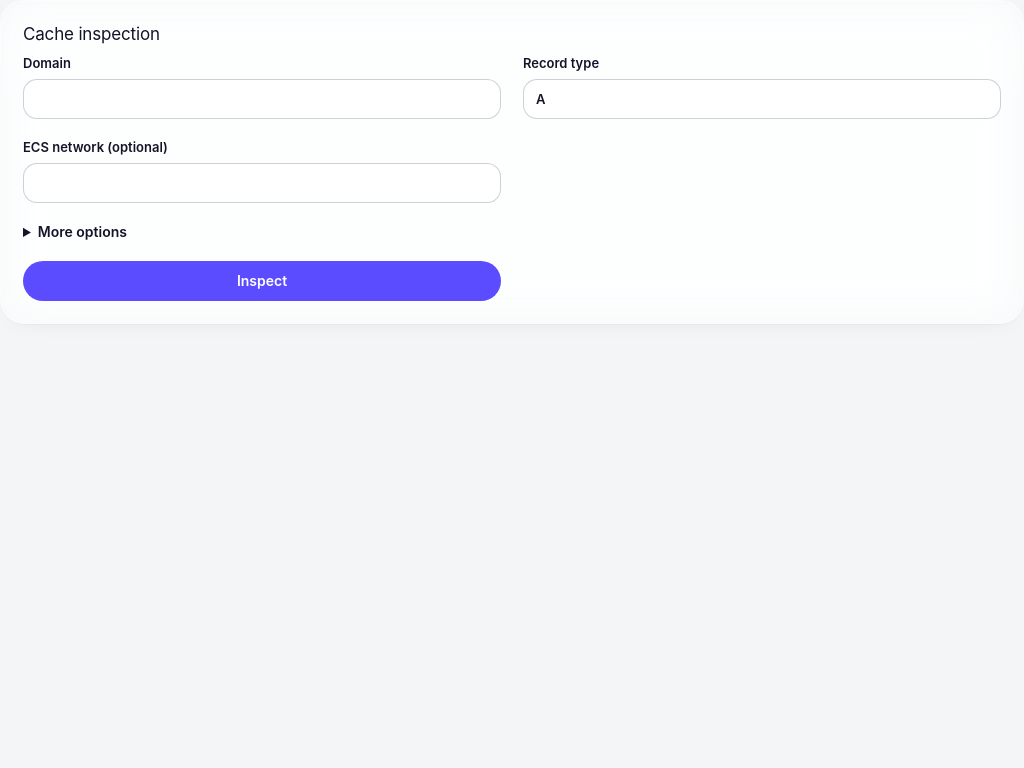
Test: cache inspection › lists entries in plain language and clears one with its own scope
Type "example.test" into the field labelled "Domain".
click(262, 99); type("example.test")  # box [23,79,501,119]
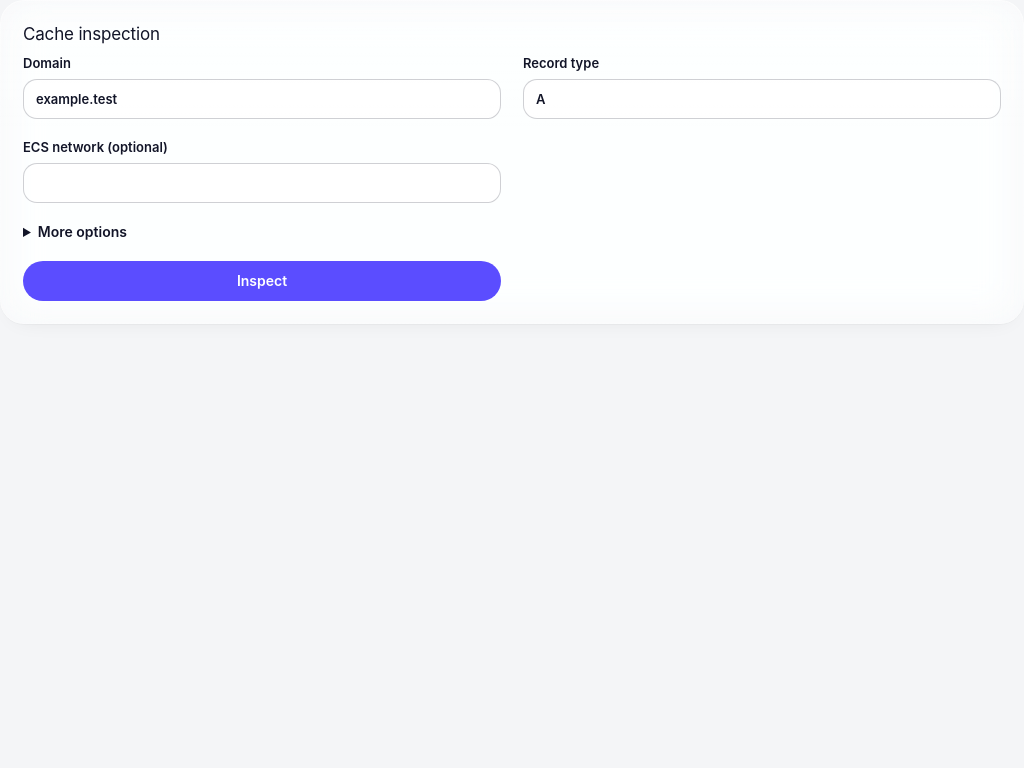
Click the button "Inspect".
click(262, 281)  # box [23,261,501,301]
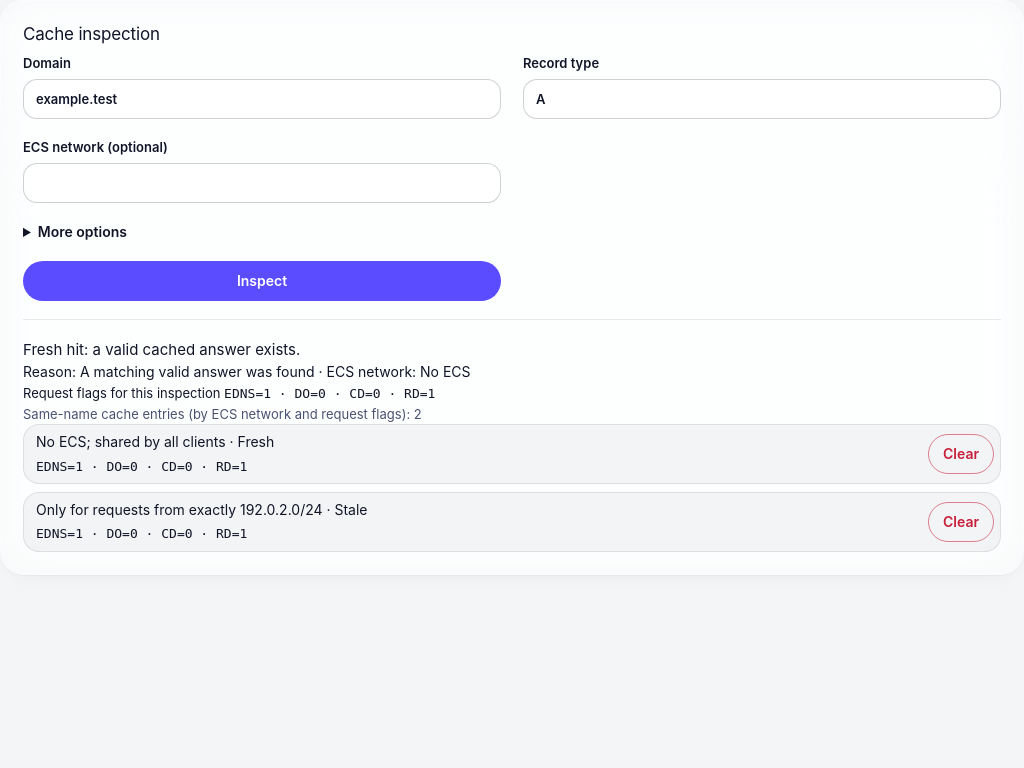
Check: the text "No ECS; shared by all clients · Fresh" is shown, box [36,431,274,453]
Click the button "Clear" in the row of "Stale".
click(961, 522)  # box [928,502,994,542]
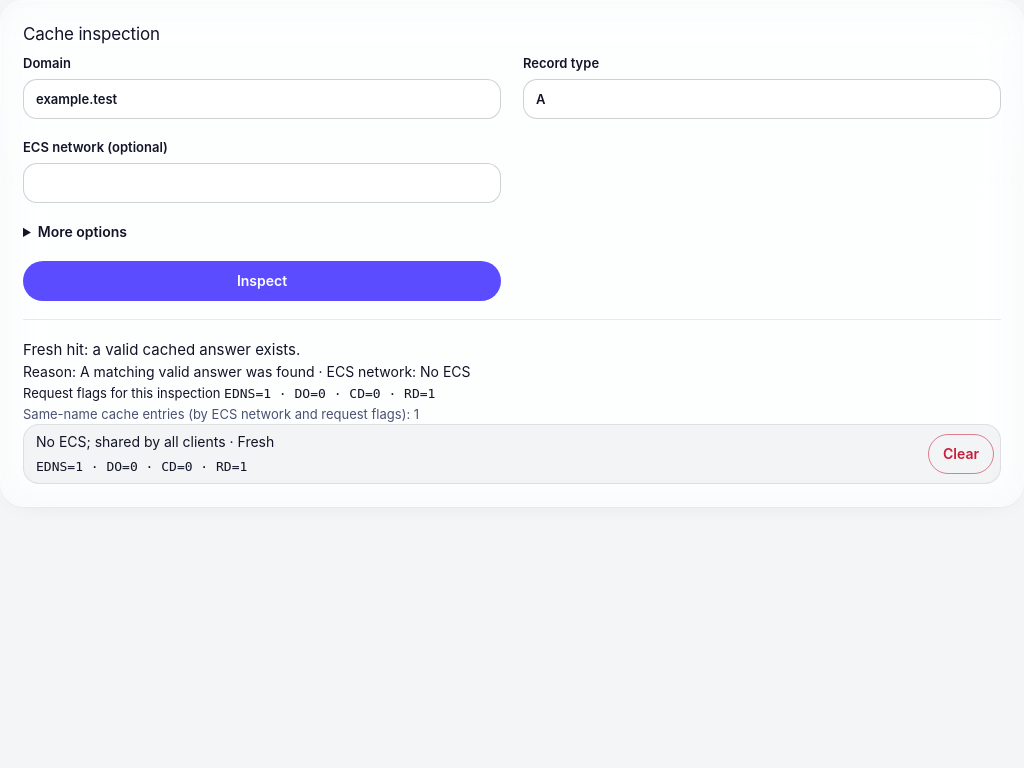
Check: the text "192.0.2.0/24 · Stale" is gone
